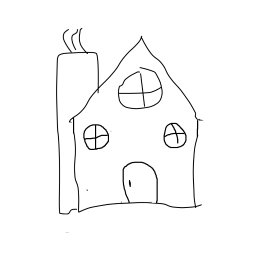closed_window: (115, 68, 167, 120), (78, 120, 114, 154), (156, 118, 188, 150)
door: (118, 155, 164, 204)
single_line_roof: (63, 32, 215, 120)
smoking_chimney: (49, 21, 103, 217)
wall: (69, 113, 202, 214)
